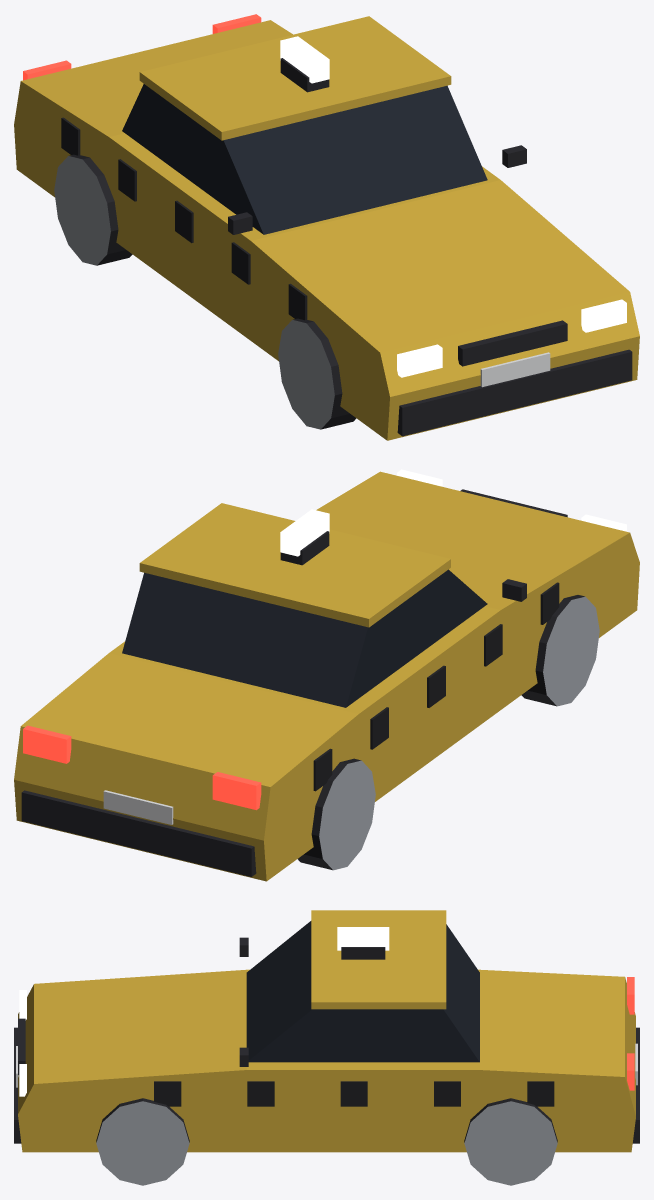
The model's file is taxi.glb.
The picture shows the model from 3 angles, top to bottom: view 1: azimuth 30°, elevation 25°; view 2: azimuth 150°, elevation 25°; view 3: azimuth 270°, elevation 25°; orthographic projection. The views are drawn at different scales.
Visible parts, largest first — view 1: taxi, wheel_RR, wheel_FR; view 2: taxi, wheel_RR, wheel_FR; view 3: taxi, wheel_RL, wheel_FL.
Boxes of the visible parts, x1,y1,x2,y2 form: taxi: (14, 14, 639, 440); wheel_RR: (54, 154, 132, 265); wheel_FR: (278, 318, 356, 429); taxi: (14, 469, 639, 881); wheel_RR: (298, 758, 375, 870); wheel_FR: (521, 595, 599, 706); taxi: (14, 910, 639, 1152); wheel_RL: (464, 1098, 557, 1185); wheel_FL: (96, 1098, 189, 1185).
Bounding box in the file's own units: 2.15 × 1.72 × 4.83.
